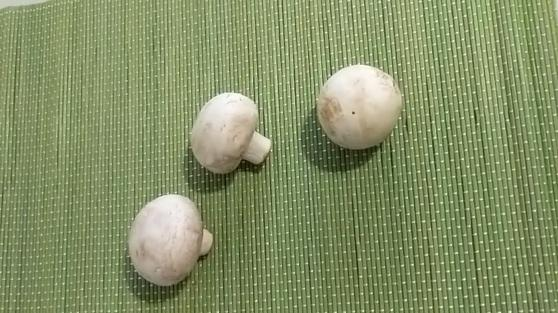champignon: (129, 191, 214, 292), (186, 87, 279, 176), (314, 62, 404, 152)
